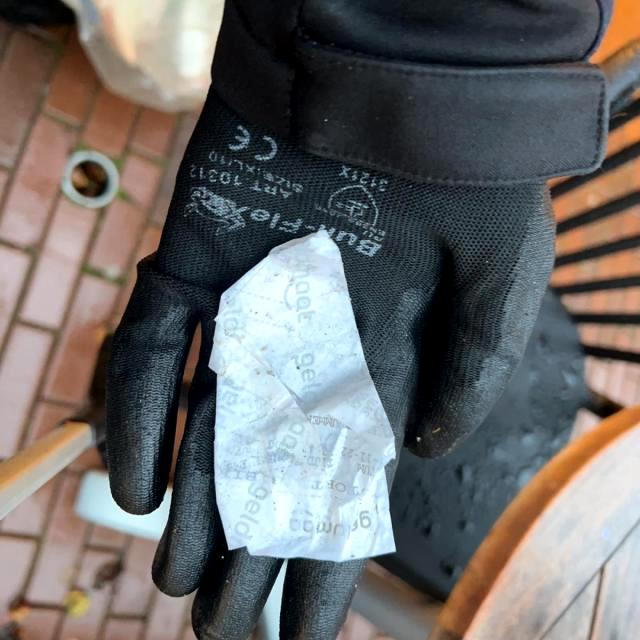Paper: (201, 222, 397, 568)
